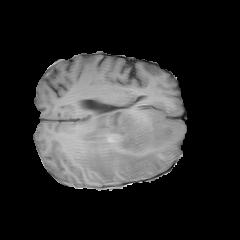glioma: (74, 109, 173, 183)
